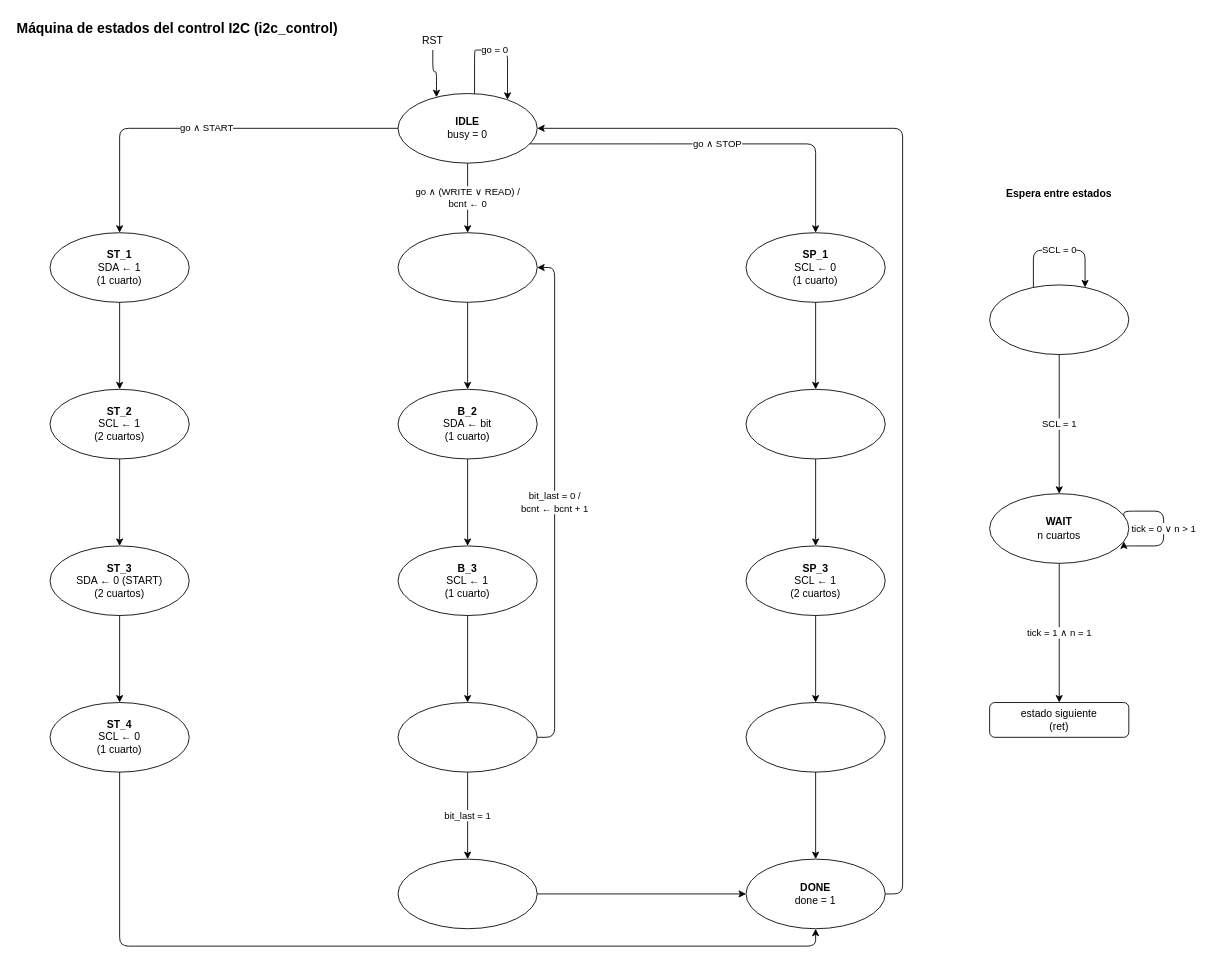
This 1210x968 diagram has some shape labels left out. The box of each missing label's shape, as (x1, y1, x2, y2) in pixels:
B_1 SCL ← 0 (1 cuarto): (397, 232, 537, 302)
B_4 leer SDA (1 cuarto): (397, 702, 537, 772)
B_END SCL ← 0 (1 cuarto): (397, 858, 537, 929)
SCL_WAIT: (989, 284, 1129, 355)
SP_2 SDA ← 0 (1 cuarto): (745, 388, 885, 459)
SP_4 SDA ← 1 (STOP) (2 cuartos): (745, 702, 885, 772)
